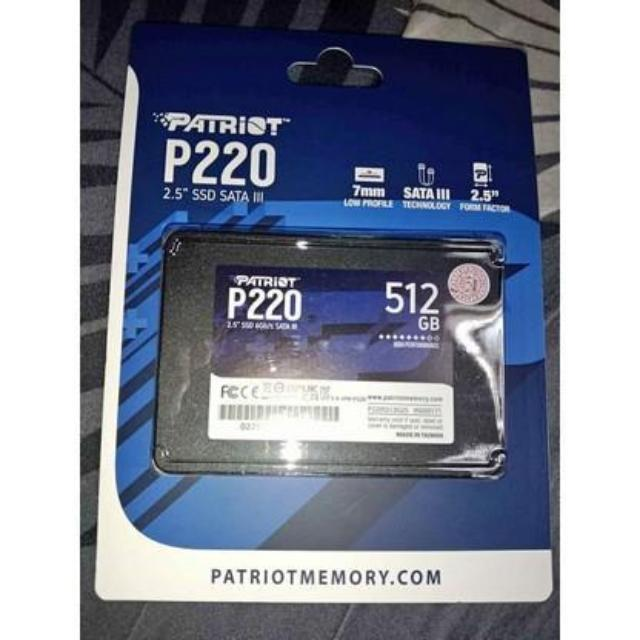DISK: (150, 225, 512, 487)
